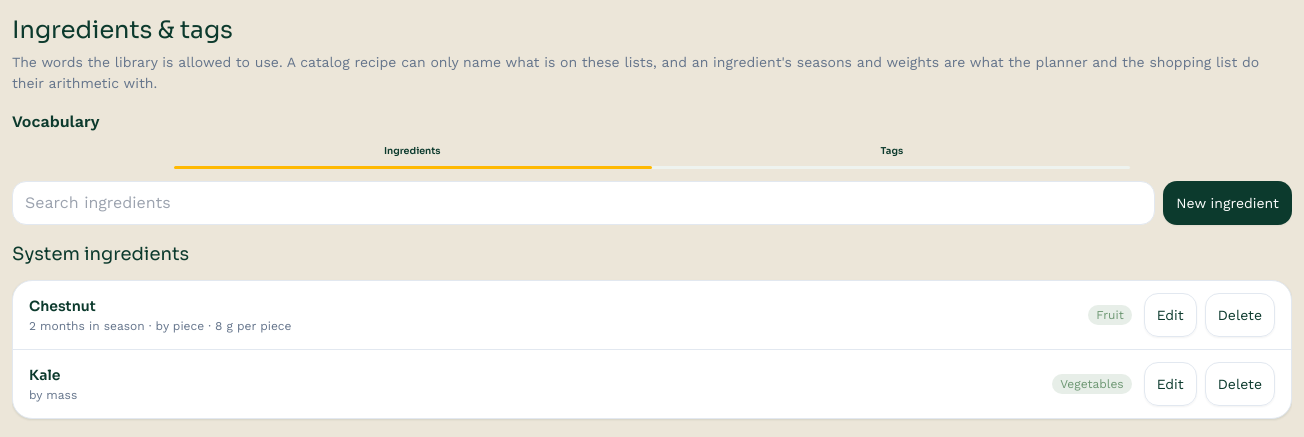
Scenario: the tags tab lists the tags and says which penalize repetition
Expected: the text "Chestnut" is shown, [29,297,96,315]
Click the tab "Tags": (892, 156) [654,142,1130,169]
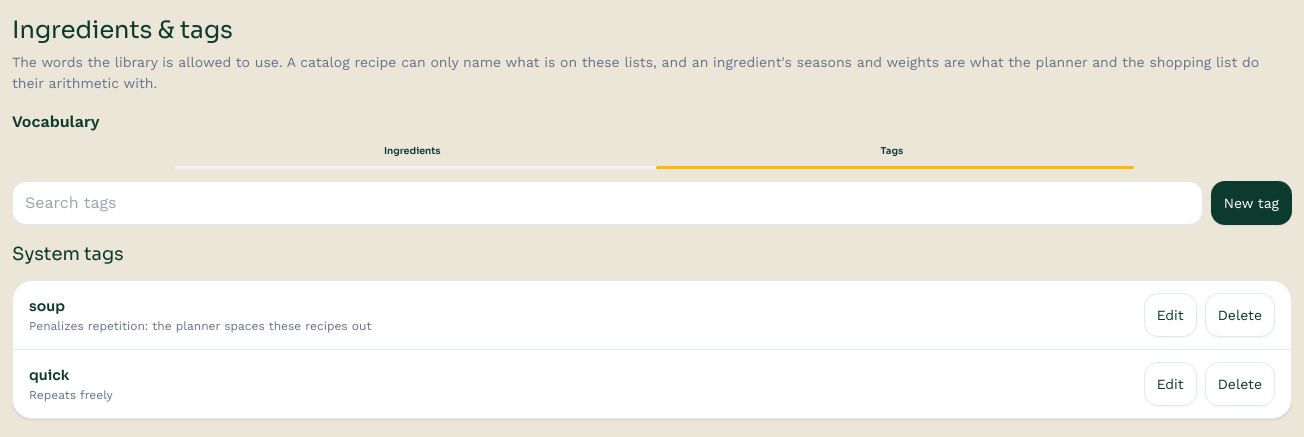
Expected: the list item "soup" shows "Penalizes repetition", [29,319,371,333]
